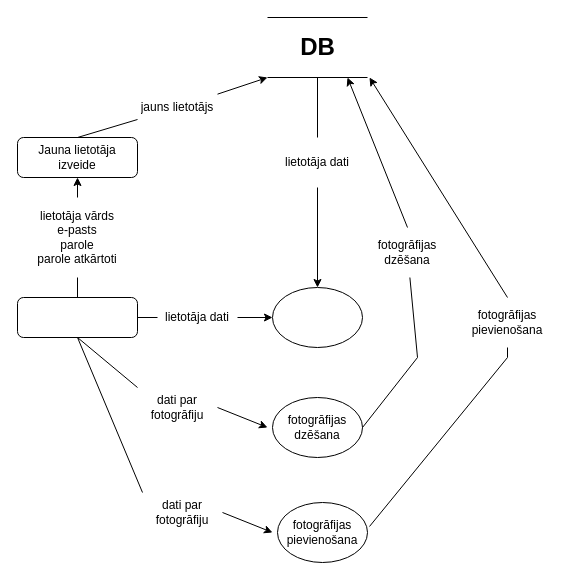
The diagram is 565 pixels wide and 580 high, and some of its shapes have lost their labels. Each missing label, with the centre of its shape:
Pieslēgšanās: [317,317]
Reģistrēts lietotājs: [77,317]
